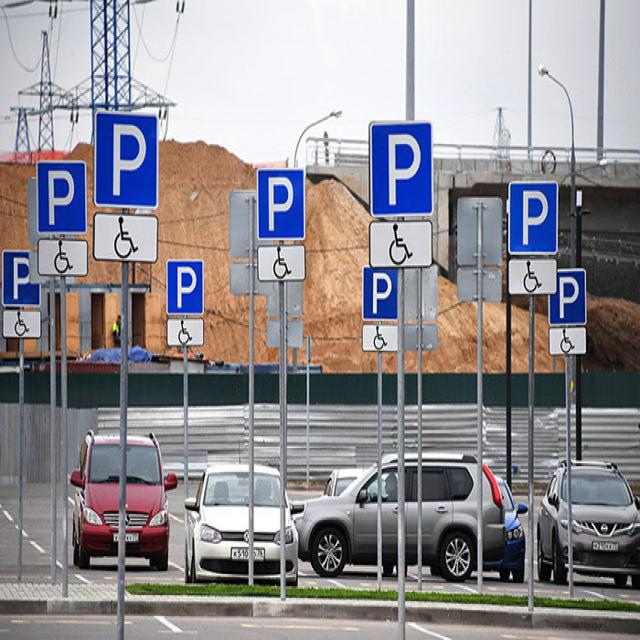parking: (367, 118, 437, 220), (92, 113, 162, 211), (507, 179, 562, 258), (253, 165, 308, 242), (37, 158, 88, 239), (0, 246, 42, 312), (546, 269, 590, 328), (166, 259, 204, 317), (362, 266, 400, 324)
